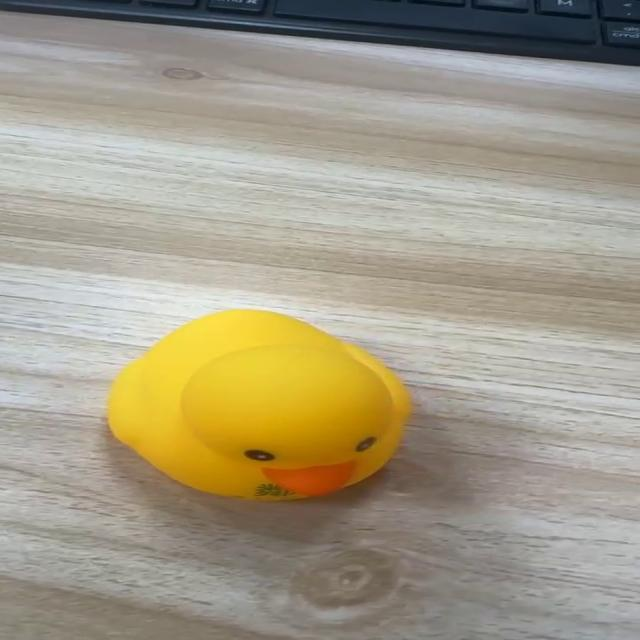yellow_duck: (104, 307, 414, 502)
